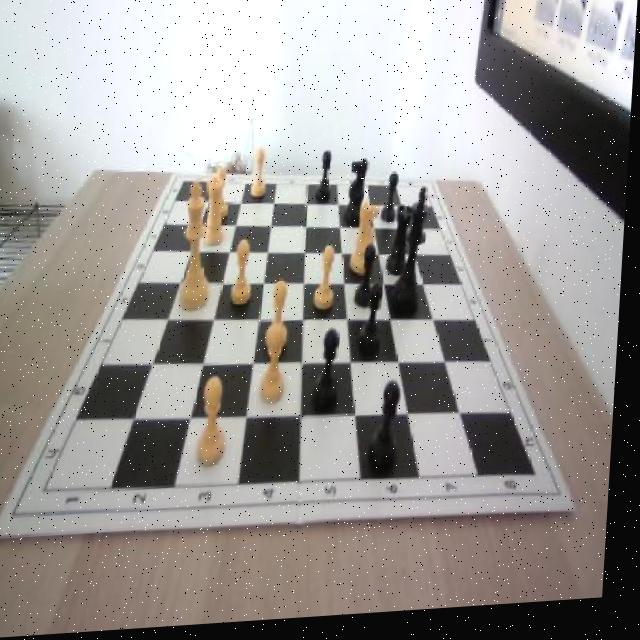black-bishop: (396, 192, 435, 317)
black-king: (347, 160, 371, 233)
black-knight: (375, 386, 408, 476), (317, 332, 347, 419), (361, 288, 388, 359), (358, 247, 383, 316), (384, 177, 402, 231), (319, 153, 337, 204)
black-queen: (390, 205, 420, 283)
white-bishop: (179, 182, 218, 314)
white-king: (354, 206, 384, 279)
white-knight: (199, 379, 235, 471), (262, 324, 297, 410), (266, 279, 297, 357), (231, 243, 258, 312), (318, 247, 342, 315), (214, 170, 234, 221), (252, 153, 272, 203)
white-queen: (205, 178, 231, 250)
